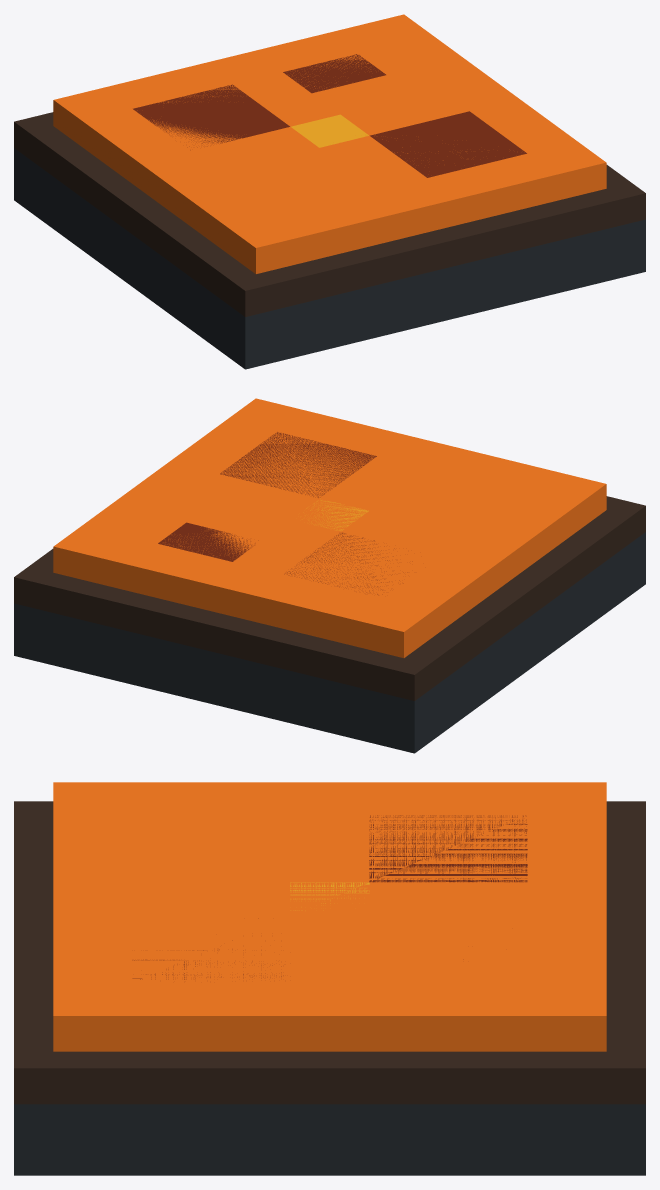
File: tile_lava.glb
3 views of the same model, one above another, from view 1: azimuth 30°, elevation 25°; view 2: azimuth 150°, elevation 25°; view 3: azimuth 270°, elevation 25° (orthographic). The views are drawn at different scales.
Visible parts, largest first — view 1: Lava mesh, Base mesh, Top mesh, Crust mesh, Bubble mesh; view 2: Lava mesh, Base mesh, Top mesh, Crust mesh, Bubble mesh; view 3: Lava mesh, Top mesh, Base mesh, Crust mesh, Bubble mesh.
Part boxes in pixels (<box>): Lava mesh: <box>53,14,606,273</box>; Base mesh: <box>14,148,645,369</box>; Top mesh: <box>14,112,645,316</box>; Crust mesh: <box>133,54,526,177</box>; Bubble mesh: <box>291,114,368,147</box>; Lava mesh: <box>53,398,606,657</box>; Base mesh: <box>14,532,645,753</box>; Top mesh: <box>14,496,645,700</box>; Crust mesh: <box>158,432,412,595</box>; Bubble mesh: <box>302,498,368,530</box>; Lava mesh: <box>53,782,606,1051</box>; Top mesh: <box>14,801,645,1104</box>; Base mesh: <box>14,1104,645,1175</box>; Crust mesh: <box>132,815,527,979</box>; Bubble mesh: <box>290,882,369,910</box>.
Size of the model in its own units: 16 by 4 by 16.
Materials: 1 (1 with a texture image).
